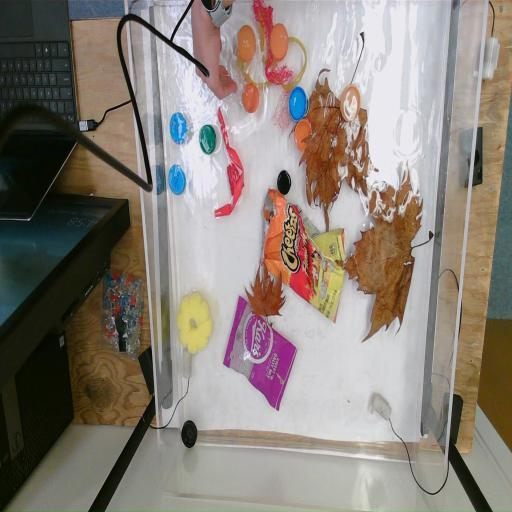Bottle Cap: (340, 81, 362, 122), (237, 24, 256, 62), (270, 22, 288, 60), (288, 86, 308, 120), (294, 117, 312, 152), (168, 164, 186, 198), (169, 112, 188, 144), (198, 124, 218, 154), (242, 83, 260, 114), (181, 420, 198, 448), (277, 169, 292, 195)
Cone Cap: (228, 160, 246, 197)
Leaf: (344, 165, 432, 338), (301, 29, 377, 228), (246, 266, 286, 326)
Netting: (254, 0, 294, 88), (274, 84, 299, 134)
Plastic Bag: (260, 187, 346, 333), (221, 292, 297, 408)
Plastic Strand: (238, 18, 309, 100), (216, 104, 246, 222)
Sponge: (177, 292, 214, 362)
